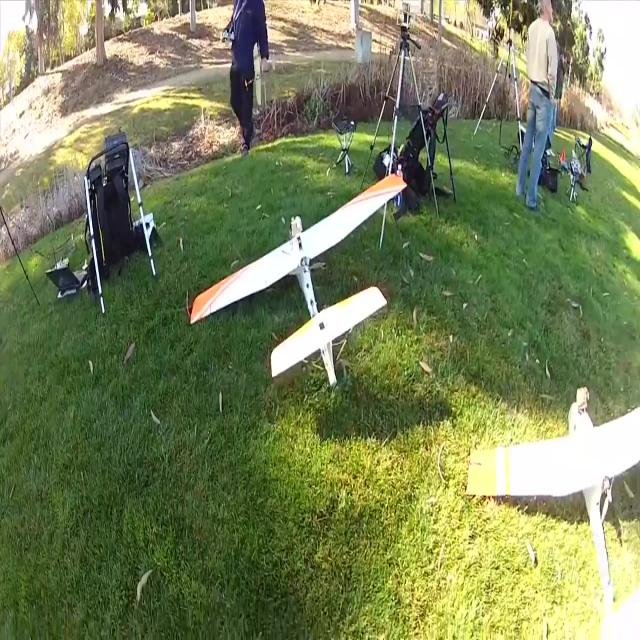iha: (190, 171, 408, 388), (466, 379, 640, 640)
